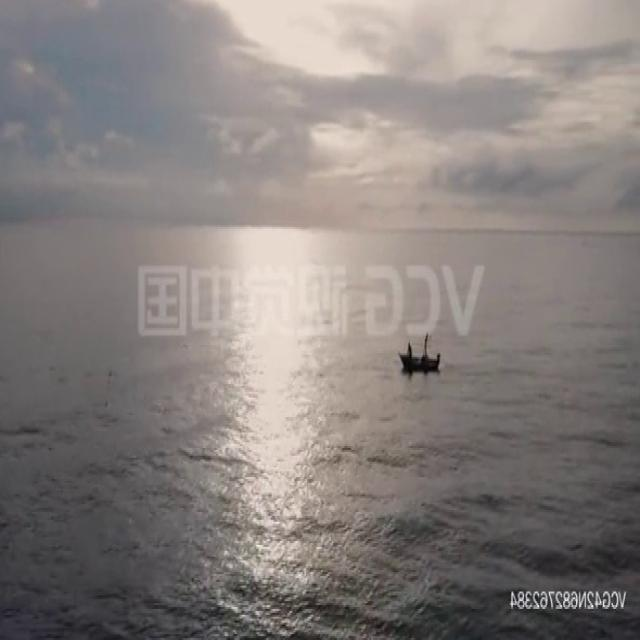fishing boat: (396, 326, 444, 371)
